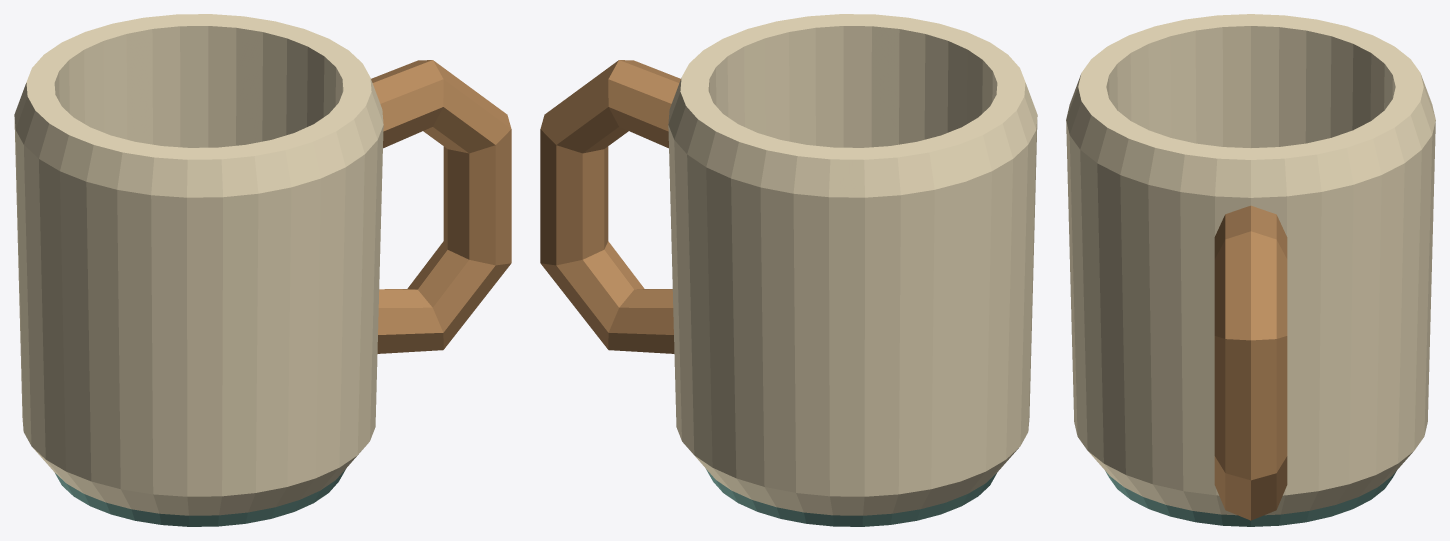
3 views of the same model, side by side, from view 1: azimuth 30°, elevation 25°; view 2: azimuth 150°, elevation 25°; view 3: azimuth 270°, elevation 25° (orthographic).
Visible parts, largest first — view 1: kitchen-mug-01; view 2: kitchen-mug-01; view 3: kitchen-mug-01.
Part boxes in pixels (x1=…): kitchen-mug-01: x1=14, y1=14, x2=511, y2=526; kitchen-mug-01: x1=540, y1=14, x2=1037, y2=526; kitchen-mug-01: x1=1066, y1=14, x2=1435, y2=526.
Bounding box in the file's own units: 0.1346 × 0.104 × 0.092.
